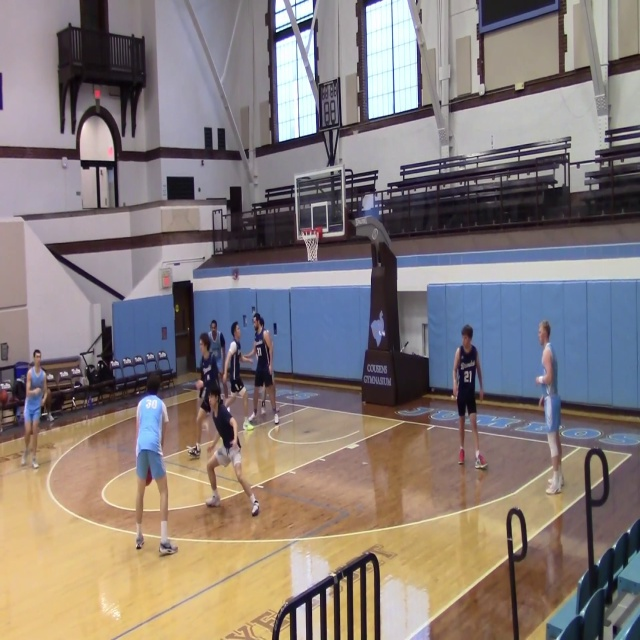Basketball: (0, 390, 8, 404)
